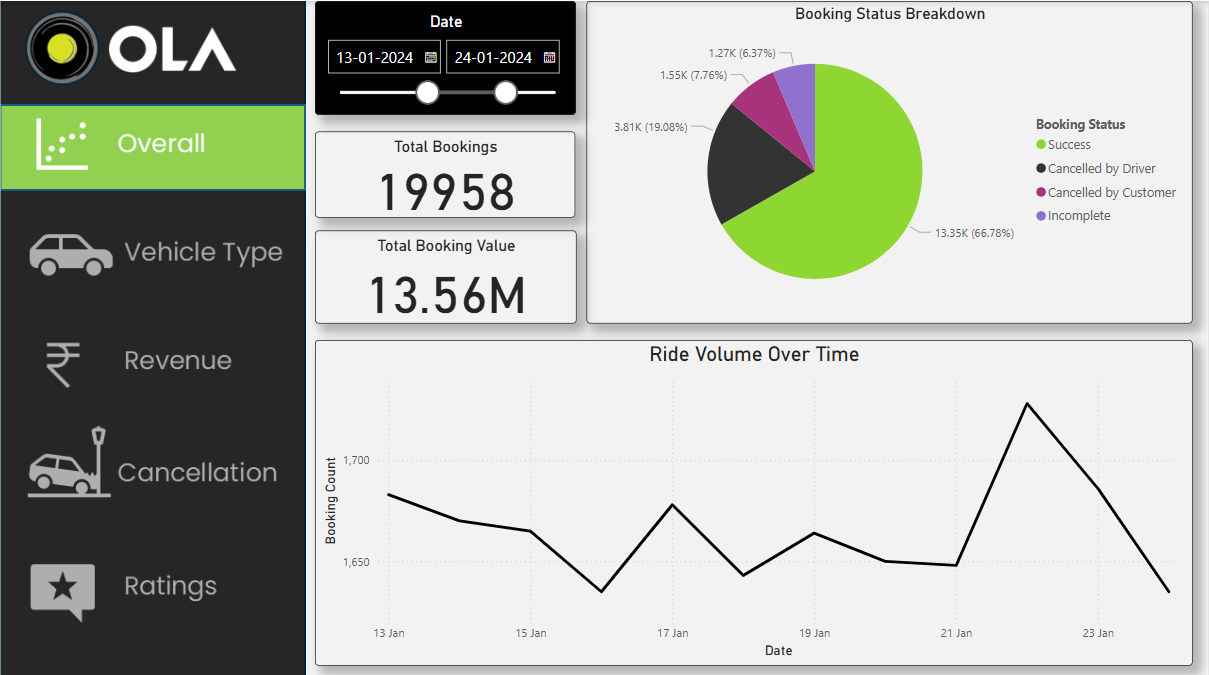

What the dashboard file says about the page in this screenshot:
{"tool":"powerbi","page":{"name":"Overall","canvas":[1280,720],"ordinal":0},"visuals":[{"type":"actionButton","box":[0,223.3,323.3,90],"z":0},{"type":"actionButton","box":[0,340,323.3,90],"z":1000},{"type":"actionButton","box":[0,446.7,323.3,90],"z":2000},{"type":"actionButton","box":[0,580,323.3,90],"z":3000},{"type":"lineChart","title":"Ride Volume Over Time","fields":{"Y":["CountNonNull(Bengaluru_Ola_Booking_Data.Booking ID)"],"Category":["Bengaluru_Ola_Booking_Data.Date"]},"box":[334,359.5,930.5,345.2],"z":4000},{"type":"pieChart","title":"Booking Status Breakdown","fields":{"Y":["CountNonNull(Bengaluru_Ola_Booking_Data.Booking ID)"],"Category":["Bengaluru_Ola_Booking_Data.Booking Status"]},"box":[621.9,0,642.6,342],"z":5000},{"type":"slicer","title":"Date","fields":{"Values":["Bengaluru_Ola_Booking_Data.Date"]},"box":[334,0,276.8,120.9],"z":6000},{"type":"card","title":"Total Bookings","fields":{"Values":["Count(Bengaluru_Ola_Booking_Data.Booking ID)"]},"box":[334.3,138.6,275.7,91.4],"z":7000},{"type":"card","title":"Total Booking Value","fields":{"Values":["Sum(Bengaluru_Ola_Booking_Data.Booking Value)"]},"box":[334.3,242.9,277.1,98.6],"z":8000}]}

Visuals, with their boxes in screenshot pixels (x1, y1, x2, y2), scaled from the page's 1280x720 canvas onto the 1209x675 screenshot:
actionButton: l=0, t=209, r=305, b=294
actionButton: l=0, t=319, r=305, b=403
actionButton: l=0, t=419, r=305, b=503
actionButton: l=0, t=544, r=305, b=628
"Ride Volume Over Time" lineChart: l=315, t=337, r=1194, b=661
"Booking Status Breakdown" pieChart: l=587, t=0, r=1194, b=321
"Date" slicer: l=315, t=0, r=577, b=113
"Total Bookings" card: l=316, t=130, r=576, b=216
"Total Booking Value" card: l=316, t=228, r=577, b=320
